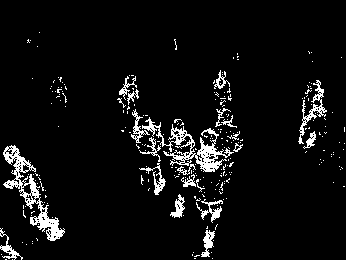person: (1, 144, 64, 242), (193, 129, 233, 257), (163, 118, 198, 220), (131, 110, 168, 197), (210, 109, 243, 183), (301, 80, 326, 156), (115, 72, 139, 131), (210, 68, 234, 116), (51, 73, 69, 119)
